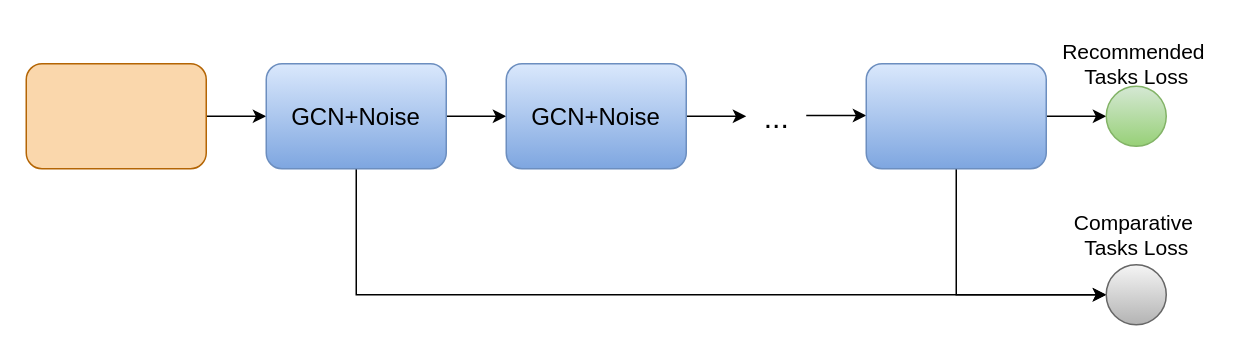
The diagram is 1253 pixels wide and 351 high, and some of its shapes have lost their labels. The centre of each missing label's shape, as x and y in pixels:
"Final Embedding" belongs at pixel 955 115.
"Node Embedding" belongs at pixel 115 115.
